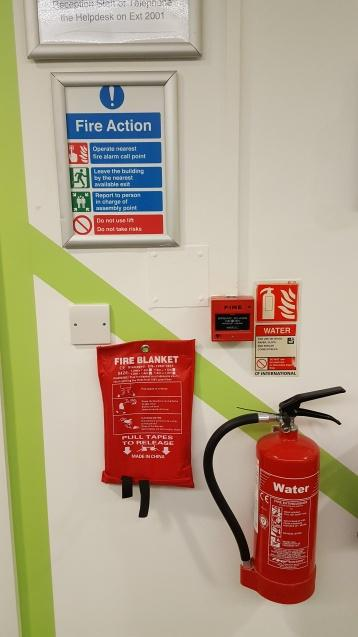APAR: (251, 384, 347, 604)
